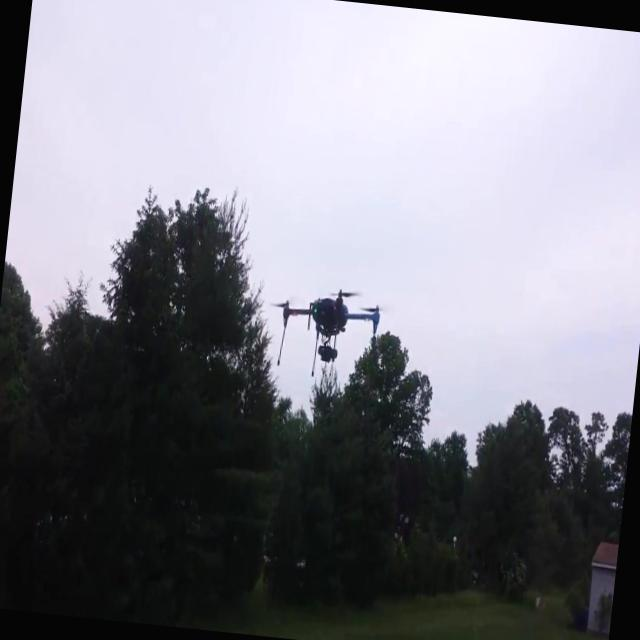drone: (262, 278, 388, 384)
